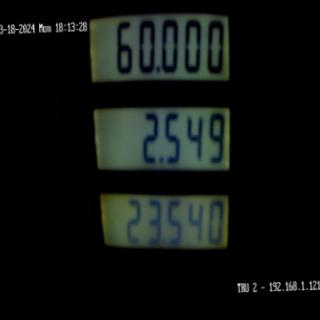screen: (84, 0, 246, 291)
